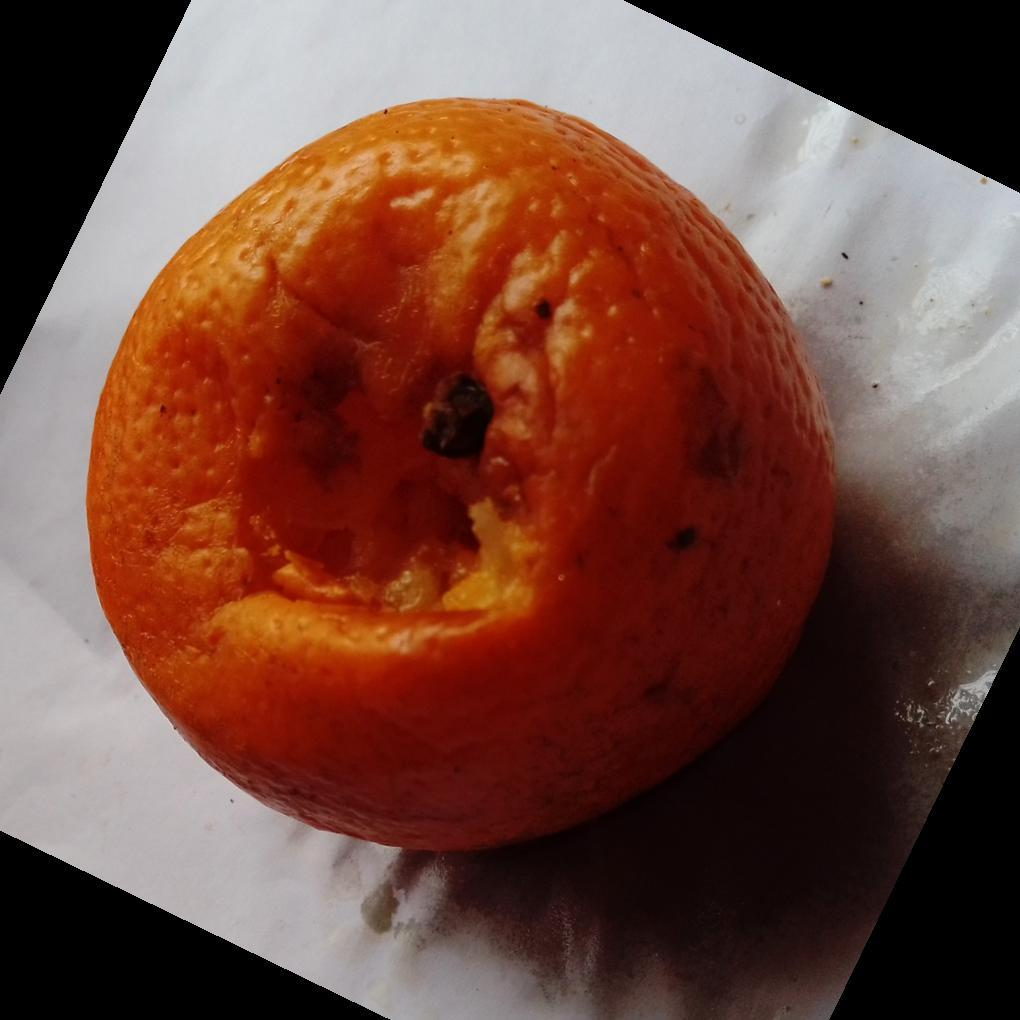FreshOrange: (81, 97, 839, 859)
